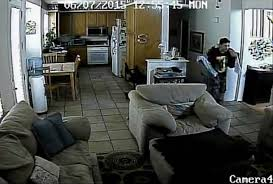Person: (201, 36, 243, 109)
